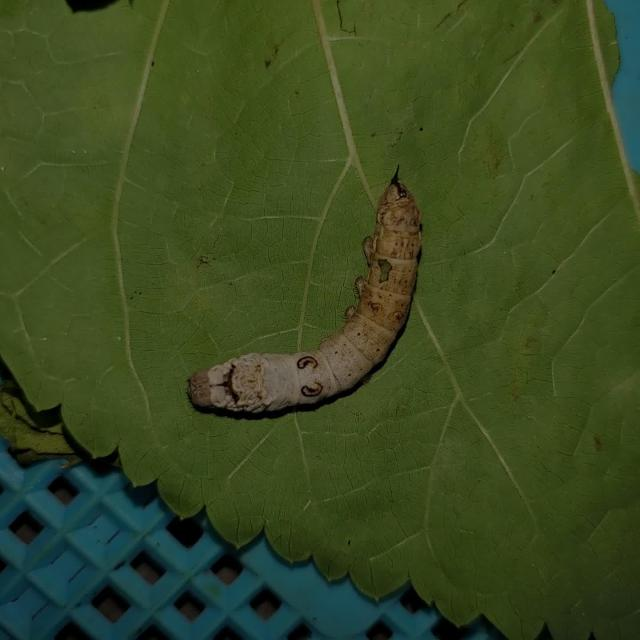Grasserie: (176, 171, 442, 428)
